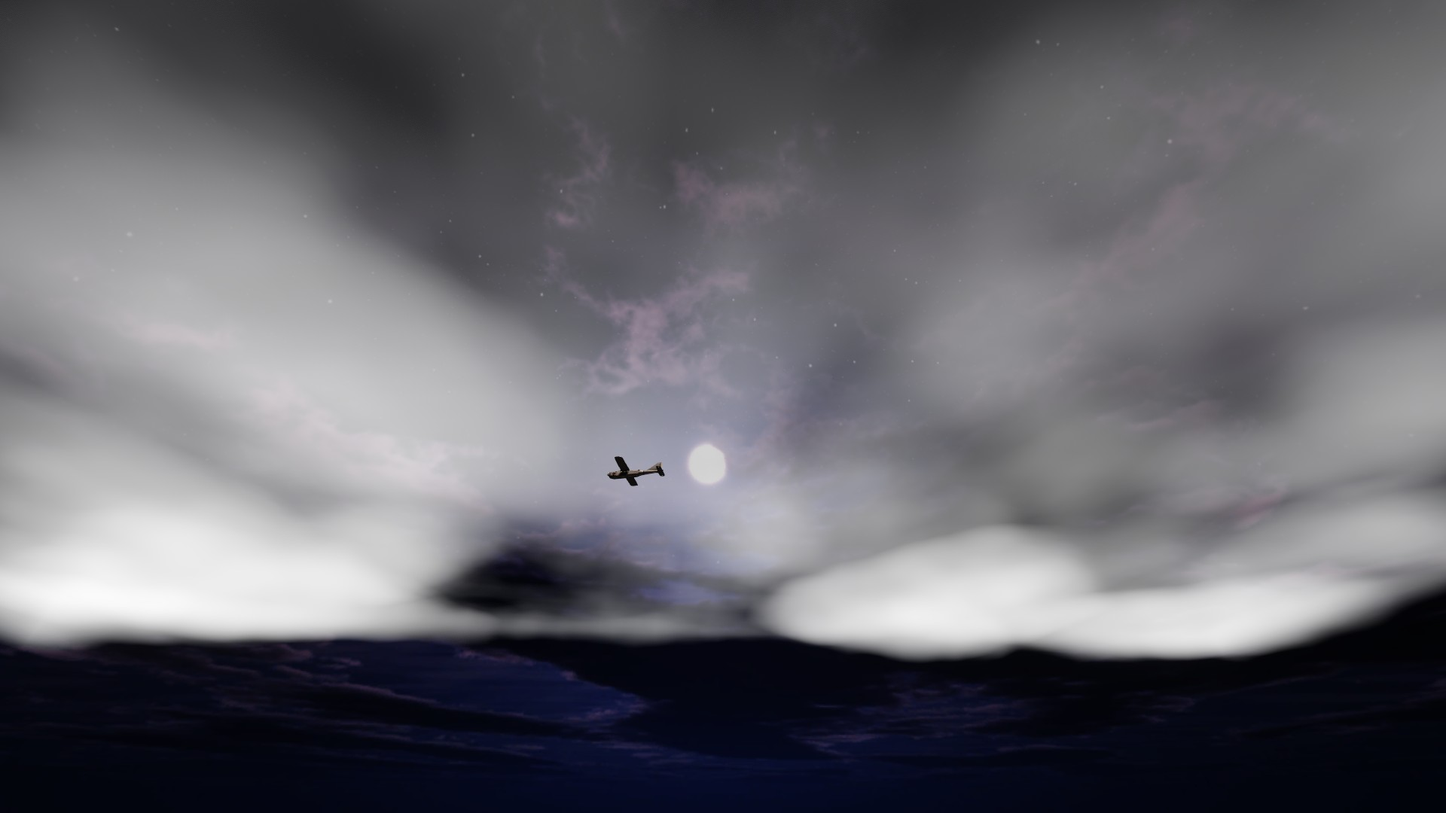drone_other: (607, 456, 665, 486)
